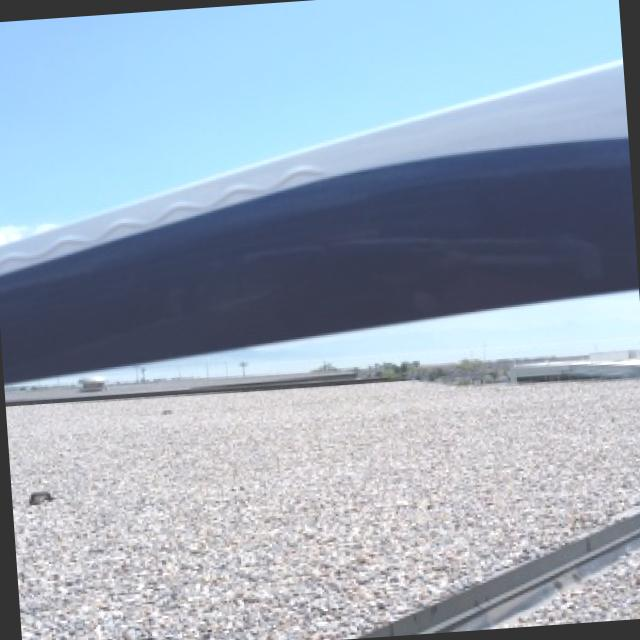healthy: (0, 59, 638, 380)
